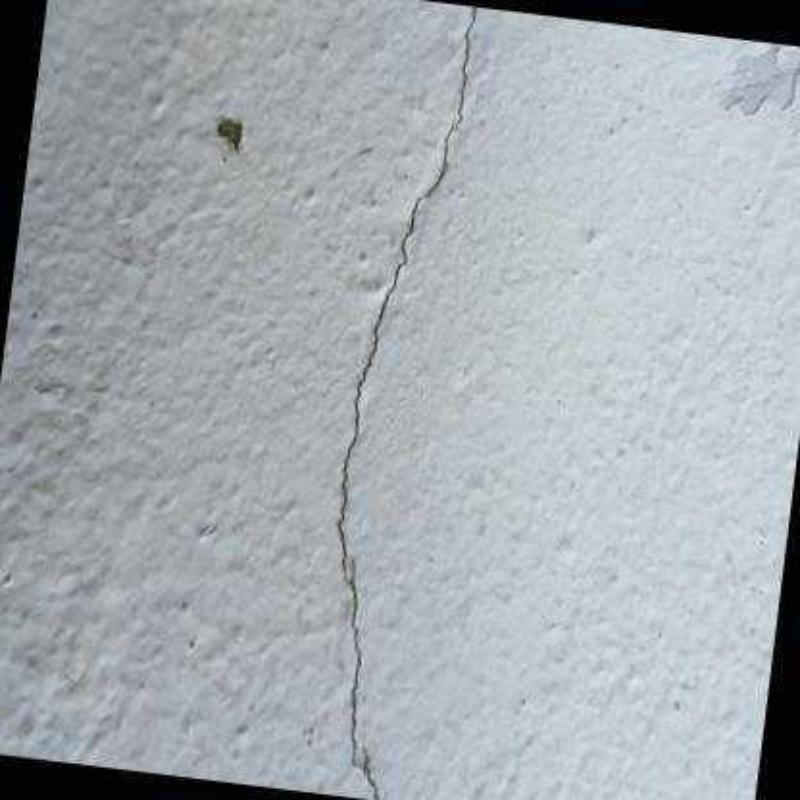pothole: (334, 6, 476, 800)
